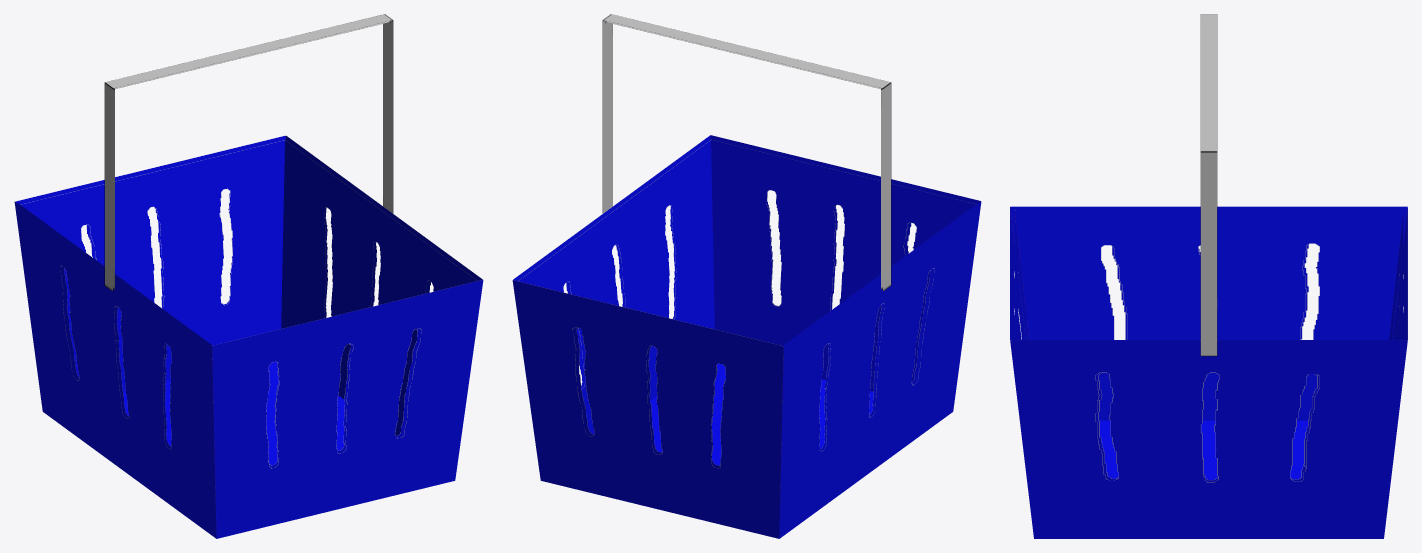
Rendered from Shopping_basket01.fbx.
The picture shows the model from 3 angles, left to right: view 1: azimuth 30°, elevation 25°; view 2: azimuth 150°, elevation 25°; view 3: azimuth 270°, elevation 25°; orthographic projection.
Visible parts, largest first — view 1: Shopping_basket01, Handle; view 2: Shopping_basket01, Handle; view 3: Shopping_basket01, Handle.
Boxes of the visible parts, x1,y1,x2,y2 form: Shopping_basket01: (14, 135, 483, 538); Handle: (104, 14, 393, 291); Shopping_basket01: (512, 135, 981, 538); Handle: (602, 14, 891, 291); Shopping_basket01: (1010, 206, 1407, 538); Handle: (1200, 14, 1217, 356).
Size of the model in its own units: 37.62 by 50.7 by 45.98.
Materials: 2 (2 with a texture image).
